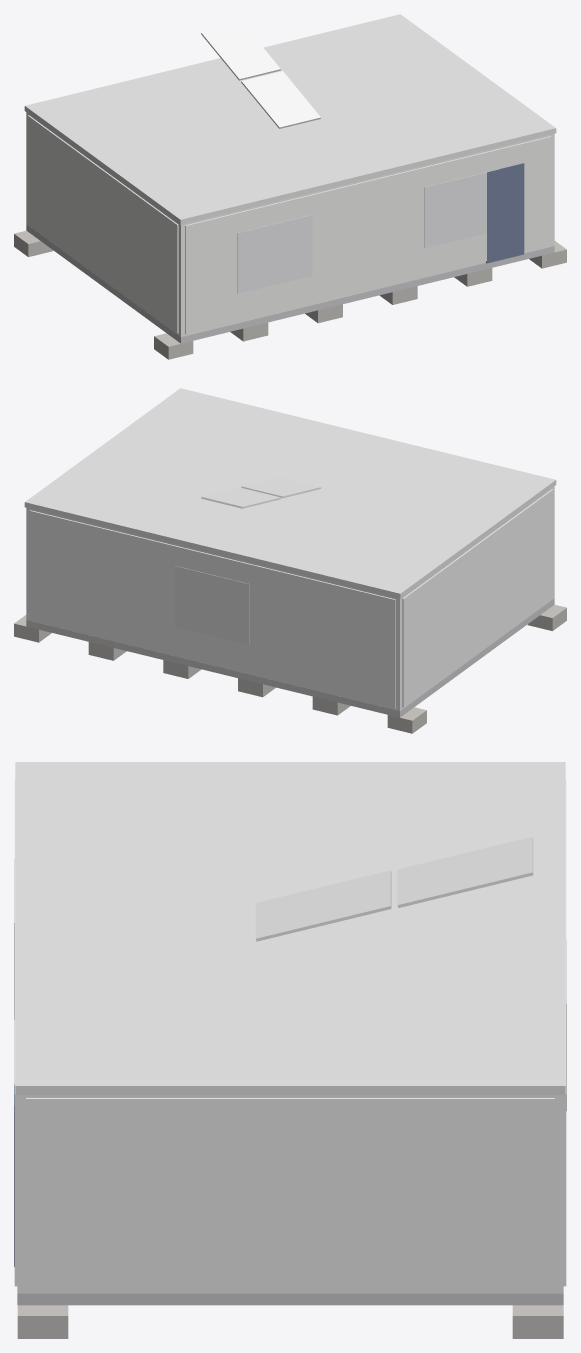
File: Studio-30-Premium+FullSolar-LOD2.glb
3 renders of one model, top to bottom at view 1: azimuth 30°, elevation 25°; view 2: azimuth 150°, elevation 25°; view 3: azimuth 270°, elevation 25°, orthographic. The views are drawn at different scales.
Visible parts, largest first — view 1: RoofMain, ExteriorPanelsPremium, WindowsLargeUpgrade, SolarPanelArray, BaseFrame, FoundationBlocks, ExteriorShell, EntryDoor; view 2: RoofMain, ExteriorPanelsPremium, WindowsLargeUpgrade, BaseFrame, ExteriorShell, FoundationBlocks, SolarPanelArray; view 3: RoofMain, ExteriorPanelsPremium, SolarPanelArray, BaseFrame, ExteriorShell, FoundationBlocks.
Part boxes in pixels (left/top/right/bottom): RoofMain: left=24, top=14, right=556, bottom=224; ExteriorPanelsPremium: left=27, top=115, right=550, bottom=334; WindowsLargeUpgrade: left=237, top=169, right=498, bottom=293; SolarPanelArray: left=201, top=22, right=320, bottom=128; BaseFrame: left=26, top=224, right=554, bottom=343; FoundationBlocks: left=14, top=230, right=566, bottom=359; ExteriorShell: left=26, top=112, right=554, bottom=336; EntryDoor: left=486, top=163, right=524, bottom=263; RoofMain: left=24, top=388, right=556, bottom=598; ExteriorPanelsPremium: left=30, top=489, right=553, bottom=708; WindowsLargeUpgrade: left=175, top=566, right=249, bottom=644; BaseFrame: left=26, top=598, right=554, bottom=717; ExteriorShell: left=26, top=486, right=554, bottom=710; FoundationBlocks: left=14, top=604, right=566, bottom=733; SolarPanelArray: left=201, top=477, right=320, bottom=508; RoofMain: left=15, top=762, right=565, bottom=1094; ExteriorPanelsPremium: left=14, top=779, right=566, bottom=1290; SolarPanelArray: left=255, top=836, right=533, bottom=941; BaseFrame: left=17, top=1293, right=563, bottom=1305; ExteriorShell: left=17, top=1095, right=563, bottom=1293; FoundationBlocks: left=17, top=1305, right=563, bottom=1338.
Bounding box in the file's own units: 9.6 × 4.07 × 6.53.
